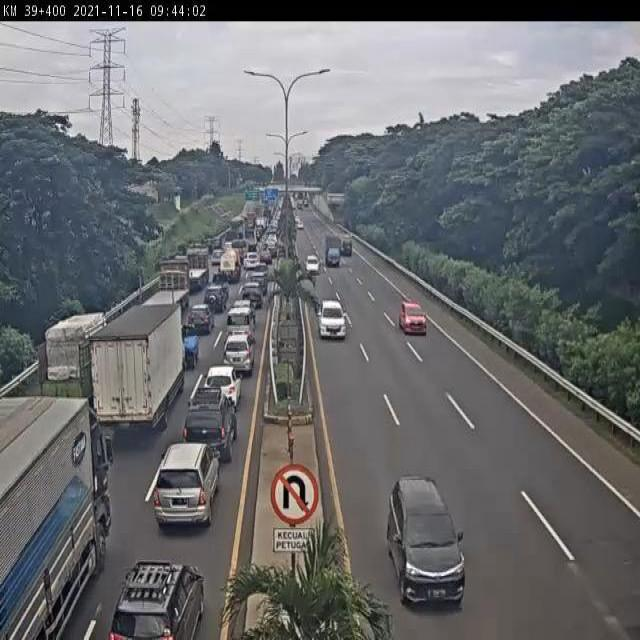car: (387, 476, 469, 608), (110, 558, 203, 640), (151, 442, 221, 530), (184, 388, 238, 460), (205, 364, 242, 411), (315, 298, 348, 338), (223, 335, 254, 373), (399, 297, 427, 335), (226, 308, 256, 341), (188, 303, 212, 333), (204, 284, 223, 309)
truck-l-: (0, 396, 114, 640), (142, 260, 191, 320), (180, 248, 210, 287)
truck-m-: (90, 302, 189, 430), (35, 314, 117, 418)
